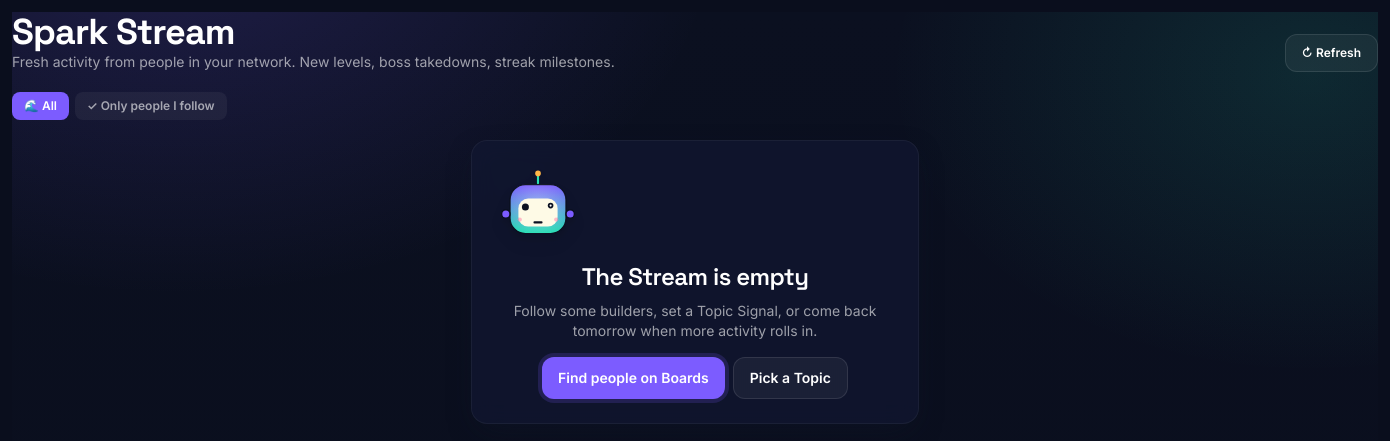
Test case: Spark Stream view › 'Only people I follow' filter shows the empty-state when player follows nobody
Click the button "✓ Only people I follow".
click(151, 106)  # box [75,92,227,120]
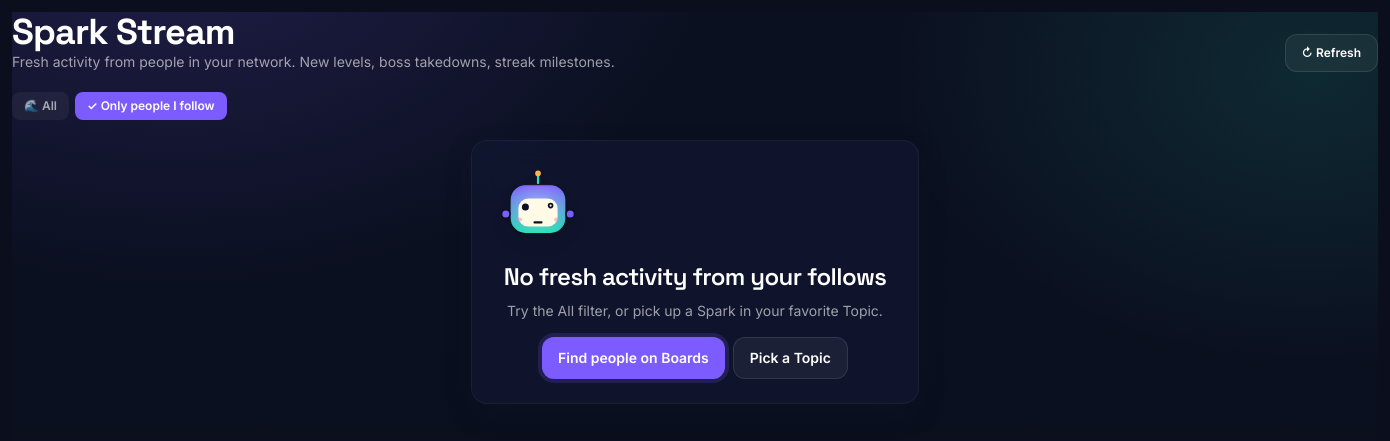
Expected: the heading "No fresh activity from your follows" is shown, [496,261,894,293]
